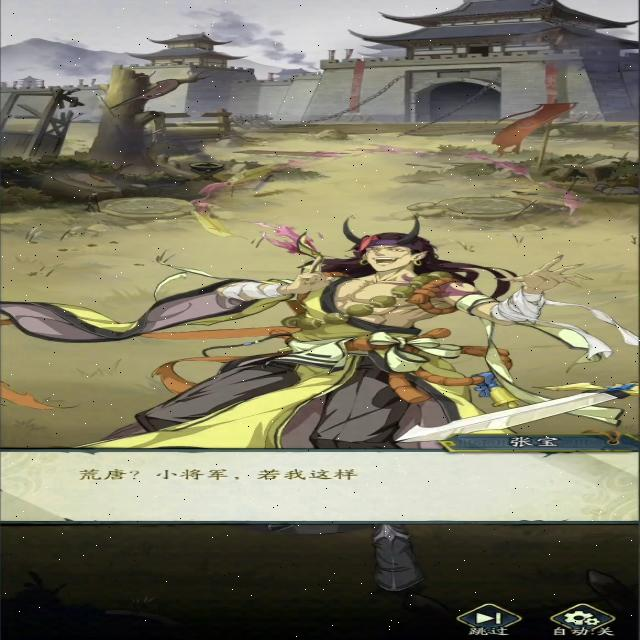system-auto: (552, 602, 618, 637)
system-skip: (456, 603, 523, 637)
